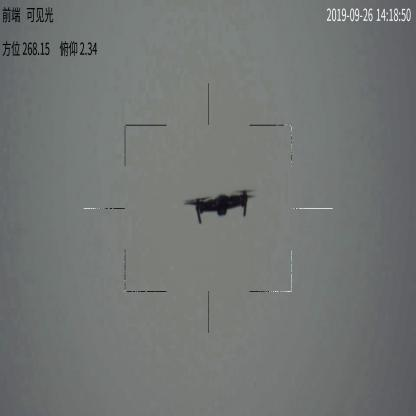uav: (182, 187, 255, 226)
